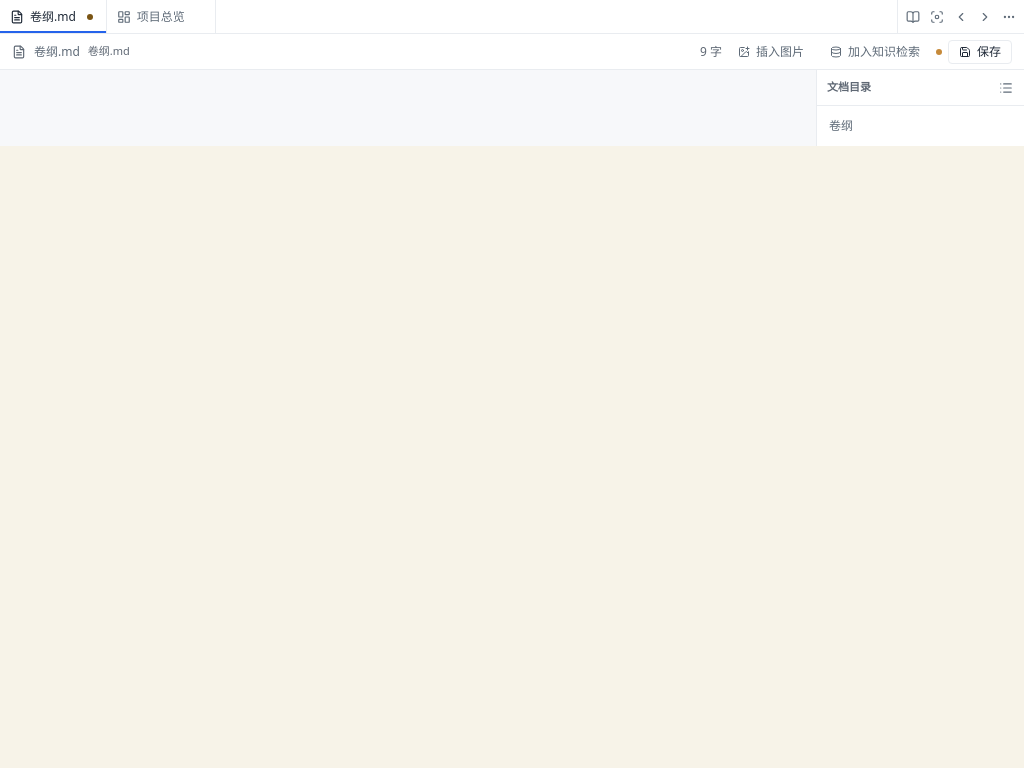
Test case: closing an unsaved project document › offers save, discard and cancel
The image size is (1024, 768).
What coordinates should you click on to do the following:
click the element titled "有未保存的修改，点击关闭"
I would click on:
 (90, 16)
Its box is [87, 14, 93, 20].
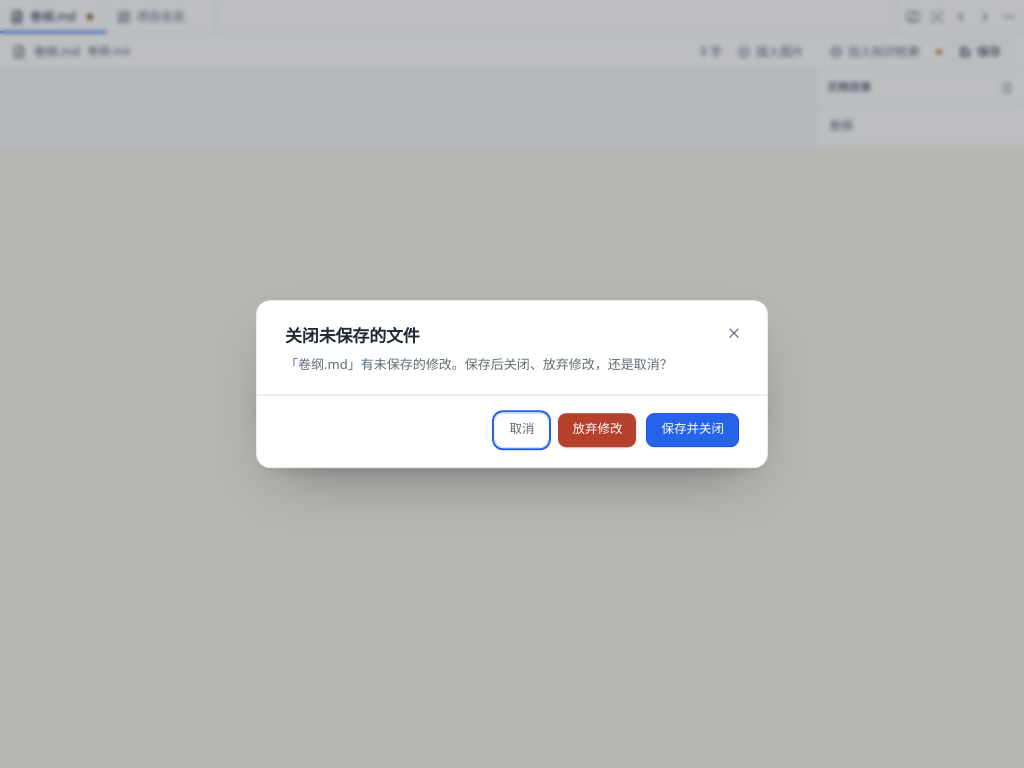
Now the button "取消" is shown, box [496, 413, 548, 447]
Now the button "放弃修改" is shown, box [558, 413, 636, 447]
Now the button "保存并关闭" is shown, box [646, 413, 739, 447]
